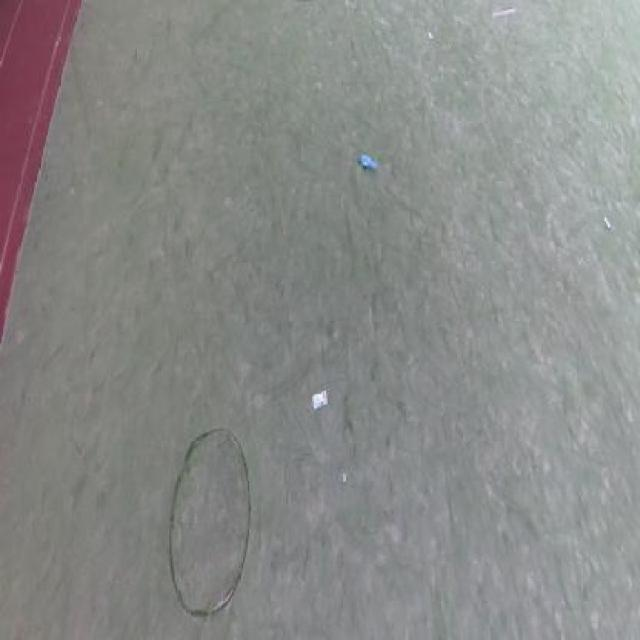Garbage: (356, 155, 378, 171), (312, 391, 328, 408), (603, 216, 612, 230), (341, 473, 346, 481), (428, 33, 433, 40)
